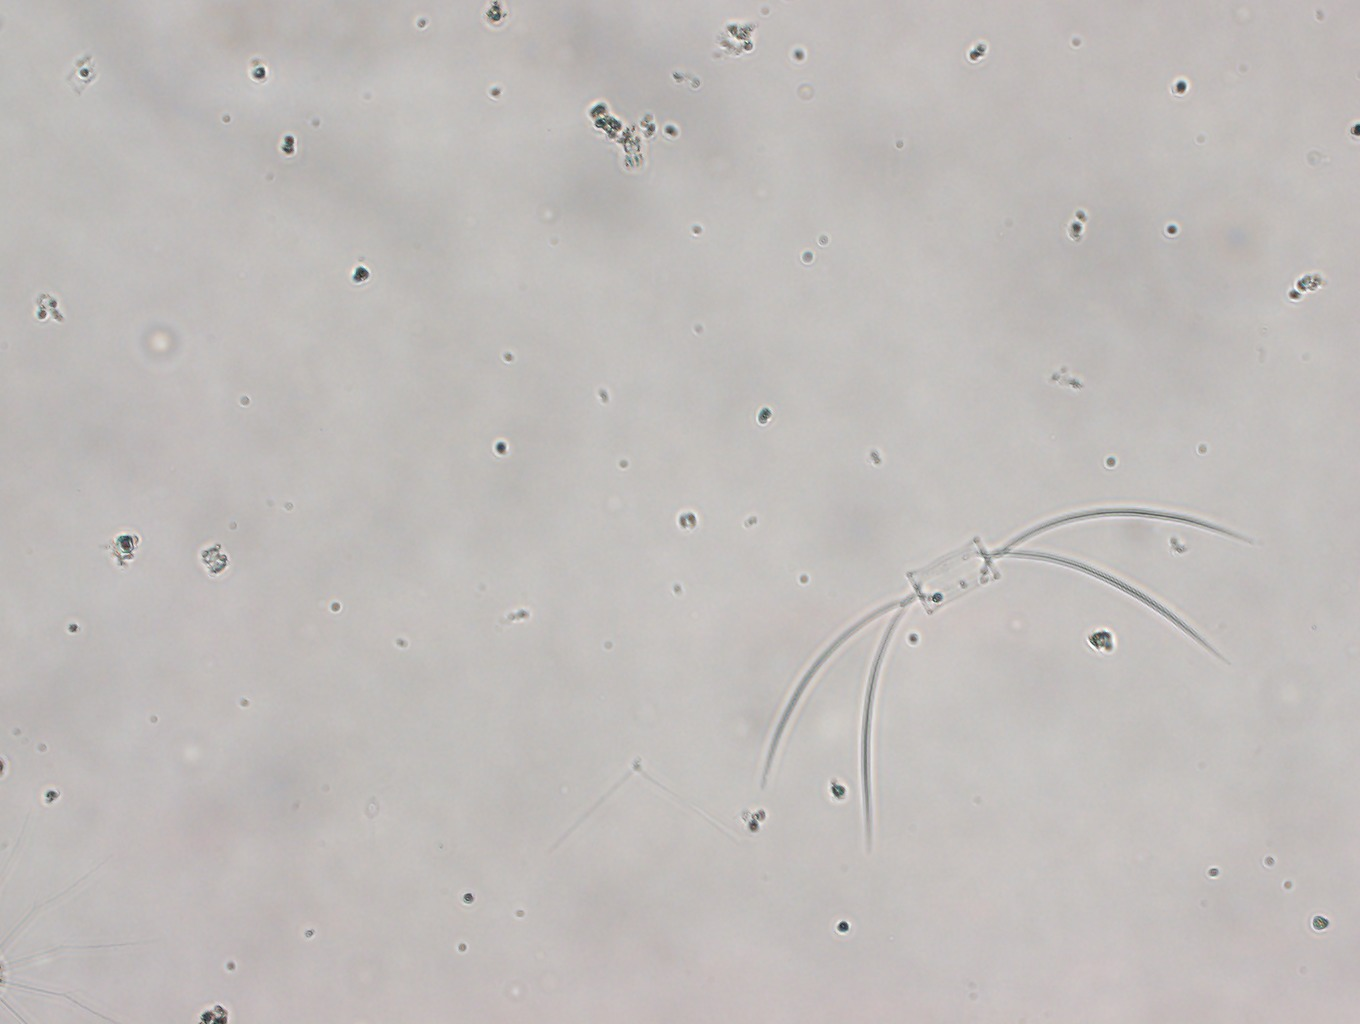chaetoceros: (739, 490, 1270, 858)
